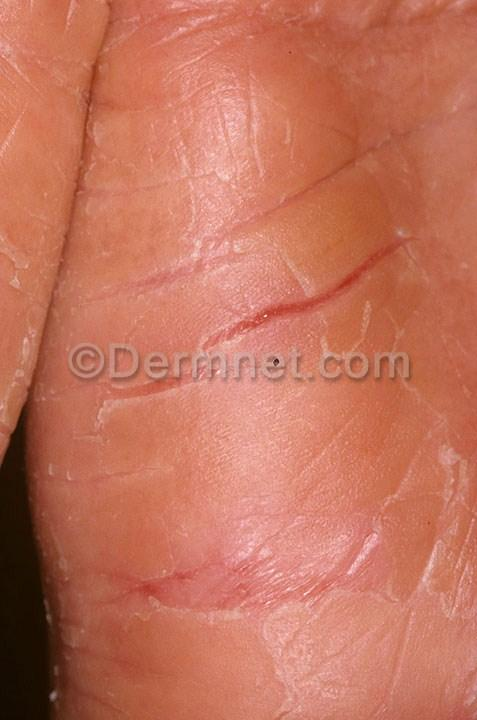Eczema: (336, 474, 455, 656), (227, 281, 425, 387), (216, 497, 337, 659), (329, 91, 477, 199), (36, 527, 134, 682), (98, 334, 244, 434), (0, 0, 114, 126), (130, 517, 238, 649), (318, 200, 454, 303), (115, 0, 245, 82), (248, 0, 379, 80), (222, 169, 321, 274), (102, 229, 218, 315), (0, 153, 82, 254), (369, 0, 477, 67), (0, 291, 48, 394)
